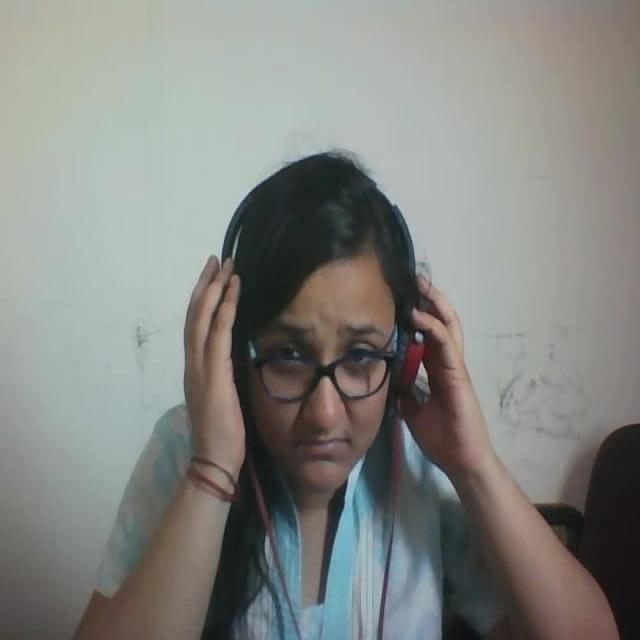Bored: (185, 109, 440, 506)
